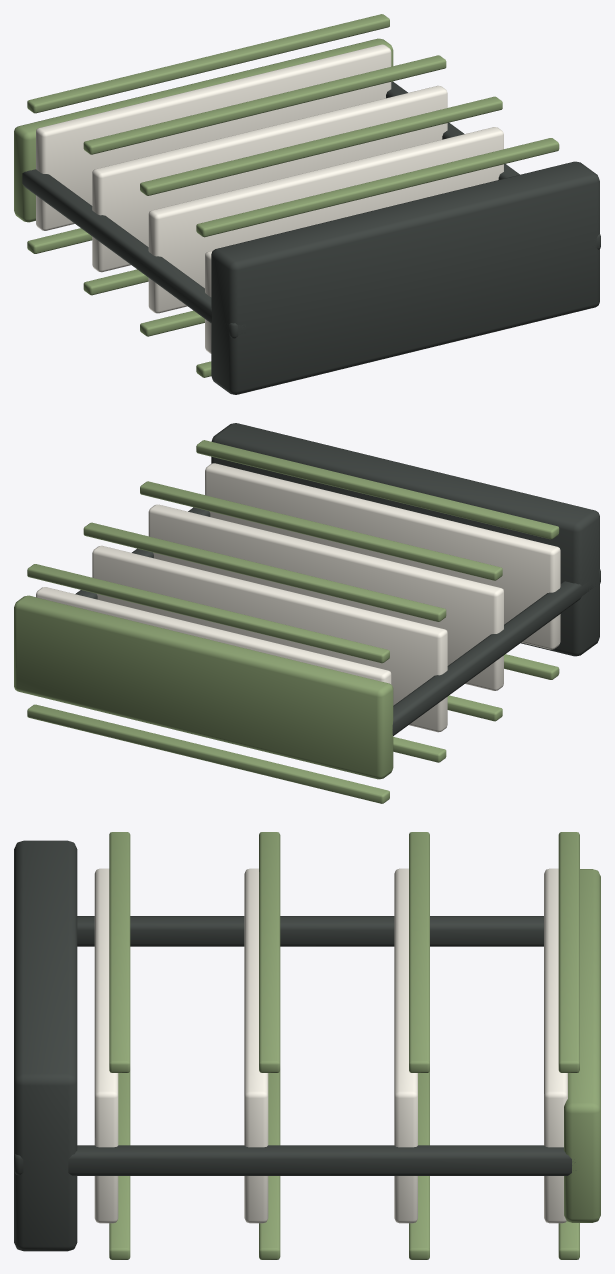
File: shelf_gondola_double.glb
The picture shows the model from 3 angles, top to bottom: view 1: azimuth 30°, elevation 25°; view 2: azimuth 150°, elevation 25°; view 3: azimuth 270°, elevation 25°; orthographic projection. The views are drawn at different scales.
Visible parts, largest first — view 1: Base, Shelf.002, Shelf.003, Shelf.001, Post, Trim.004, Trim, Trim.002, Trim.006, Header, Trim.005, Trim.007 (+3 smaller); view 2: Header, Shelf, Shelf.001, Shelf.002, Base, Post, Trim, Trim.004, Trim.006, Trim.007, Trim.002, Shelf.003 (+3 smaller); view 3: Base, Post.001, Post, Header, Shelf, Shelf.001, Shelf.002, Shelf.003, Trim, Trim.006, Trim.002, Trim.004 (+4 smaller).
Part boxes in pixels (box(x1,y1,x2,y2)): Base: box(211, 161, 599, 394); Shelf.002: box(92, 85, 447, 272); Shelf.003: box(36, 44, 391, 230); Shelf.001: box(148, 127, 503, 313); Post: box(22, 169, 245, 338); Trim.004: box(83, 55, 446, 154); Trim: box(196, 138, 559, 237); Trim.002: box(140, 96, 502, 195); Trim.006: box(27, 14, 389, 113); Header: box(14, 38, 393, 222); Trim.005: box(83, 269, 148, 295); Trim.007: box(27, 228, 92, 253); Header: box(14, 595, 393, 779); Shelf: box(205, 463, 560, 649); Shelf.001: box(148, 504, 503, 690); Shelf.002: box(92, 545, 447, 732); Base: box(211, 423, 599, 656); Post: box(392, 569, 600, 735); Trim: box(196, 440, 559, 539); Trim.004: box(83, 522, 446, 621); Trim.006: box(27, 564, 389, 663); Trim.007: box(27, 704, 389, 803); Trim.002: box(140, 481, 502, 580); Shelf.003: box(36, 587, 391, 684); Base: box(14, 840, 77, 1251); Post.001: box(14, 1145, 575, 1175); Post: box(77, 916, 543, 946); Header: box(564, 869, 600, 1222); Shelf: box(94, 868, 118, 1223); Shelf.001: box(244, 868, 268, 1223); Shelf.002: box(394, 868, 417, 1223); Shelf.003: box(544, 868, 567, 1223); Trim: box(109, 832, 130, 1072); Trim.006: box(558, 832, 579, 1072); Trim.002: box(259, 832, 280, 1072); Trim.004: box(409, 832, 429, 1072).
Bounding box in the file's own units: 2.15 × 0.83 × 2.22.
